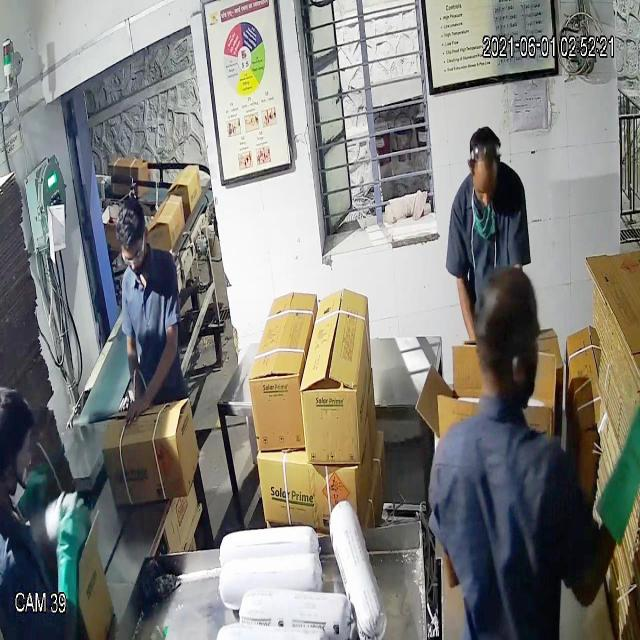glasses: (120, 236, 150, 272)
